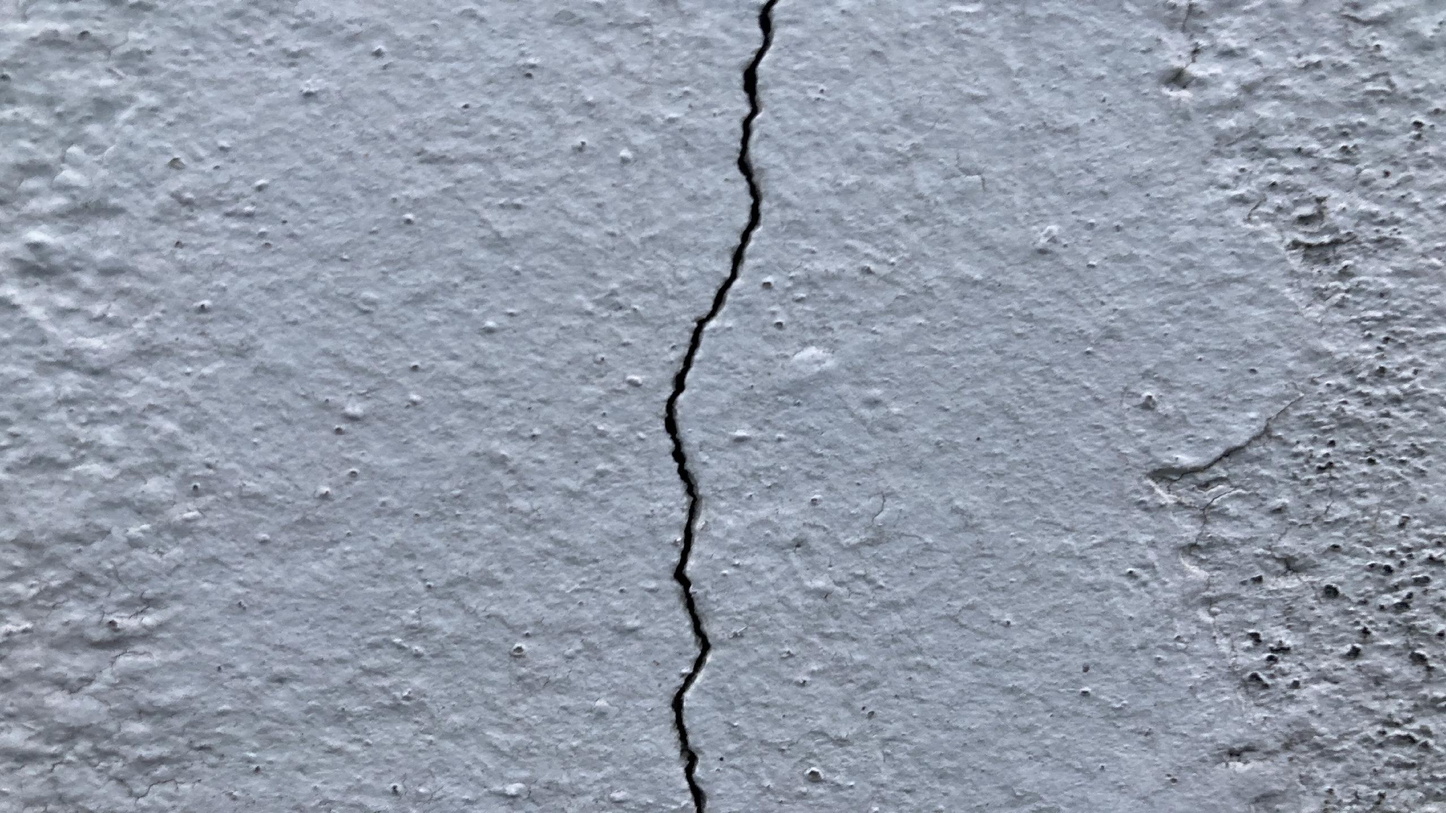crack: (664, 1, 778, 811)
